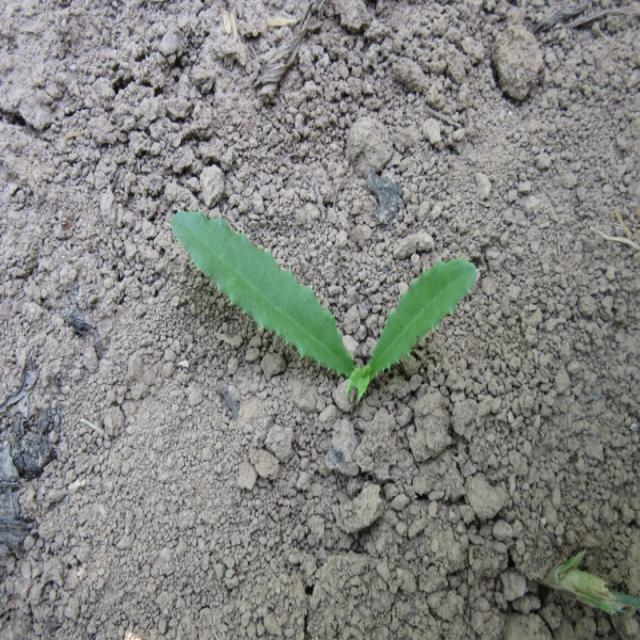field_thistle: (193, 166, 490, 456)
